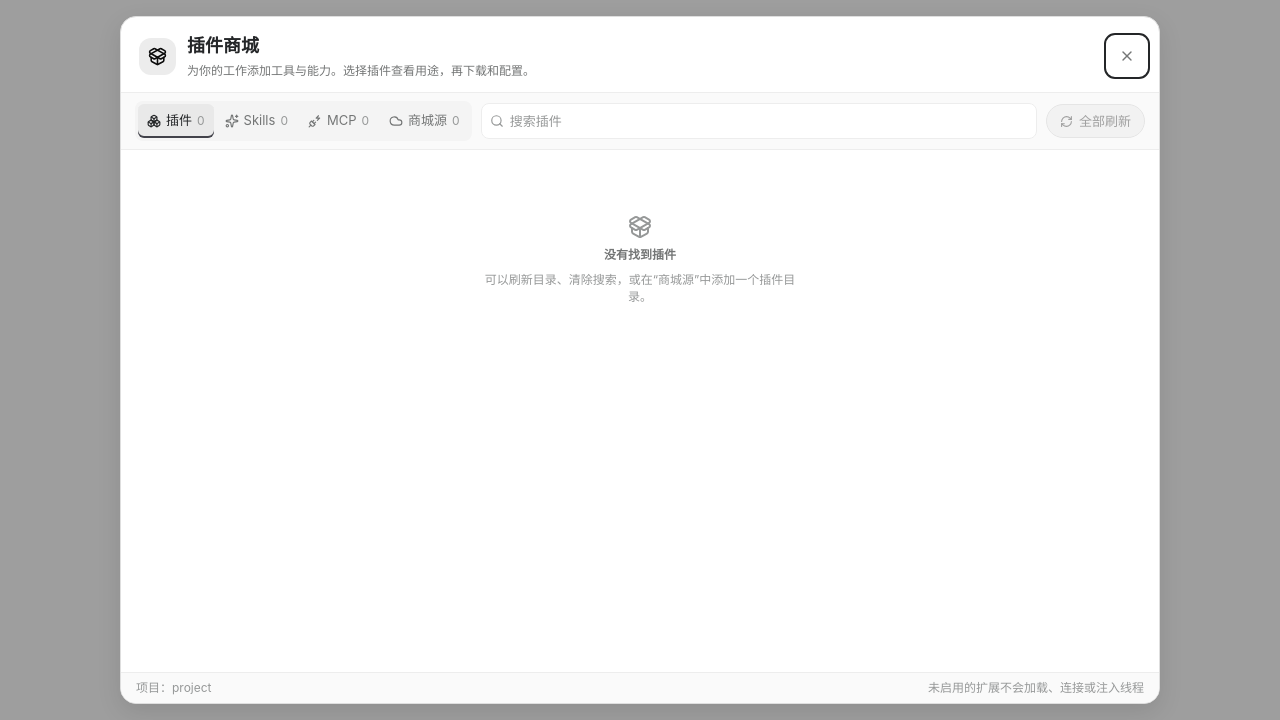
PluginMarketplaceDialog › shows a downloaded plugin MCP even when the plugin is disabled
Click the button "MCP 0".
click(339, 121)  # box [299,104,378,138]
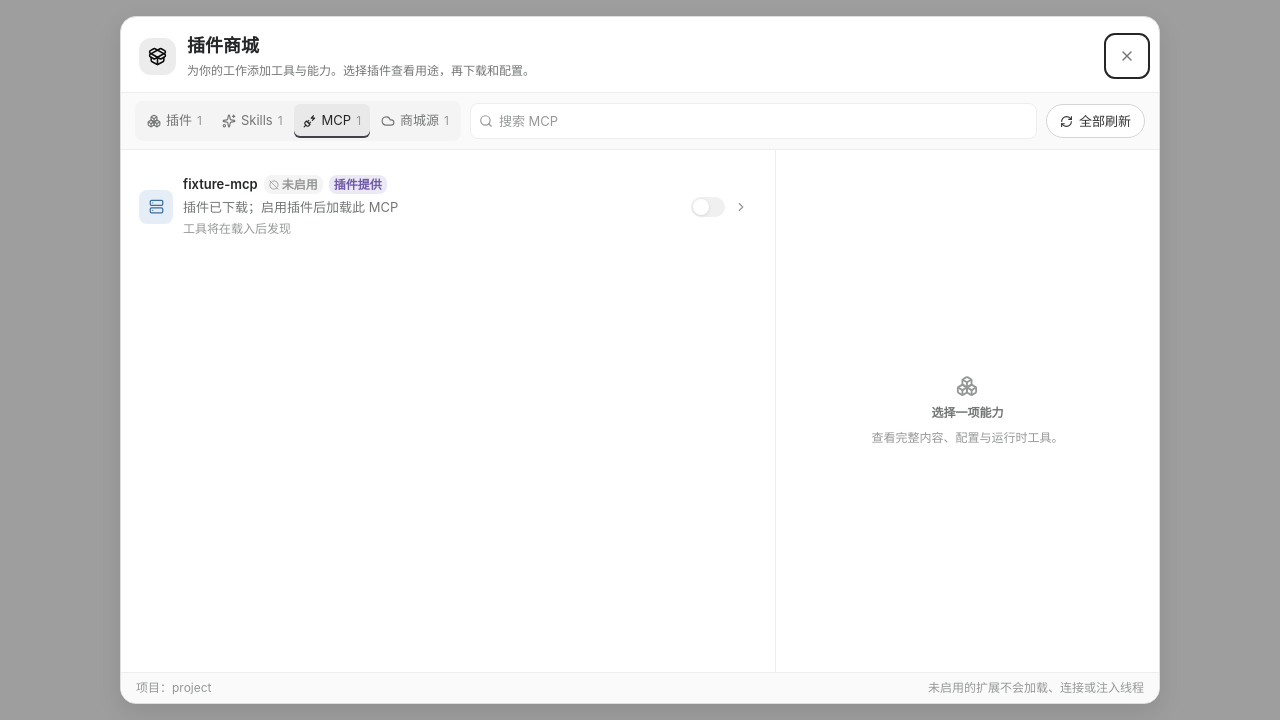
Expected: the text "未启用" is shown, [264,175,323,194]
Expected: the text "插件已下载；启用插件后加载此 MCP" is shown, [183,198,398,214]
Expected: the text "工具将在载入后发现" is shown, [183,221,291,236]
Click the button with aria-label "查看 fixture-mcp 详情".
click(156, 206)  # box [132,168,684,245]
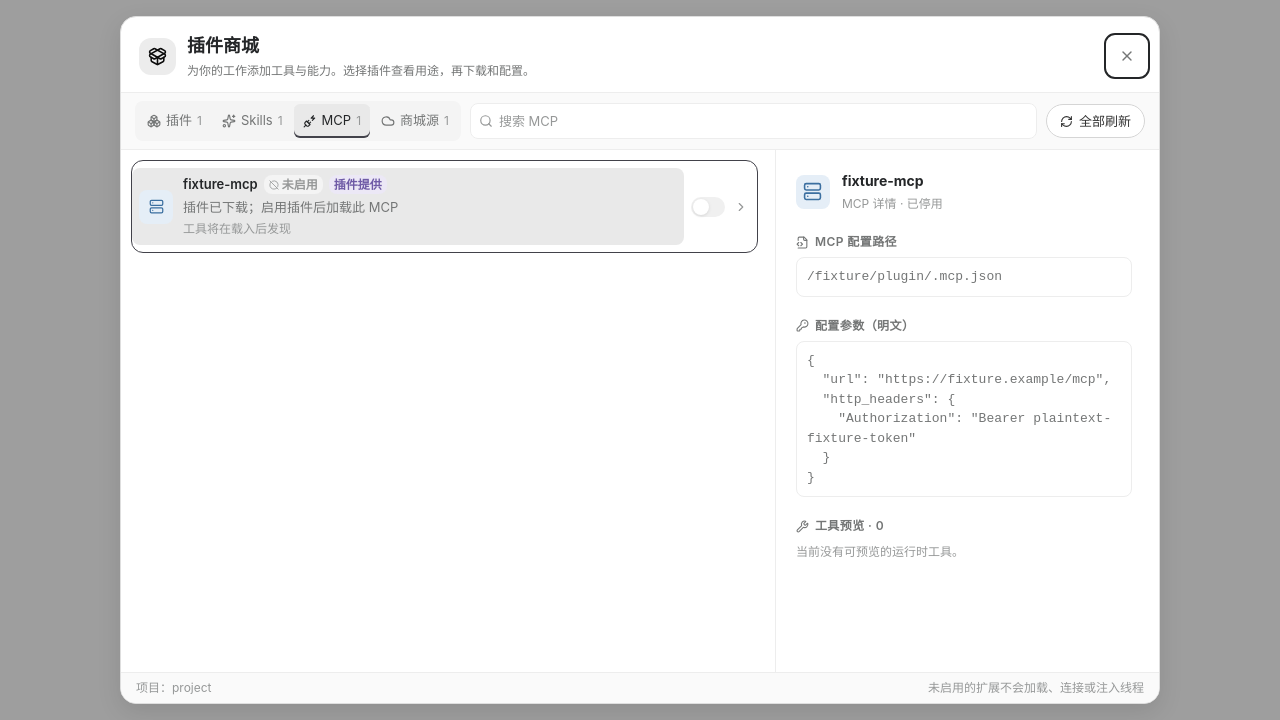
Expected: the text "Bearer plaintext-fixture-token" is shown, [807,352,1111,484]
